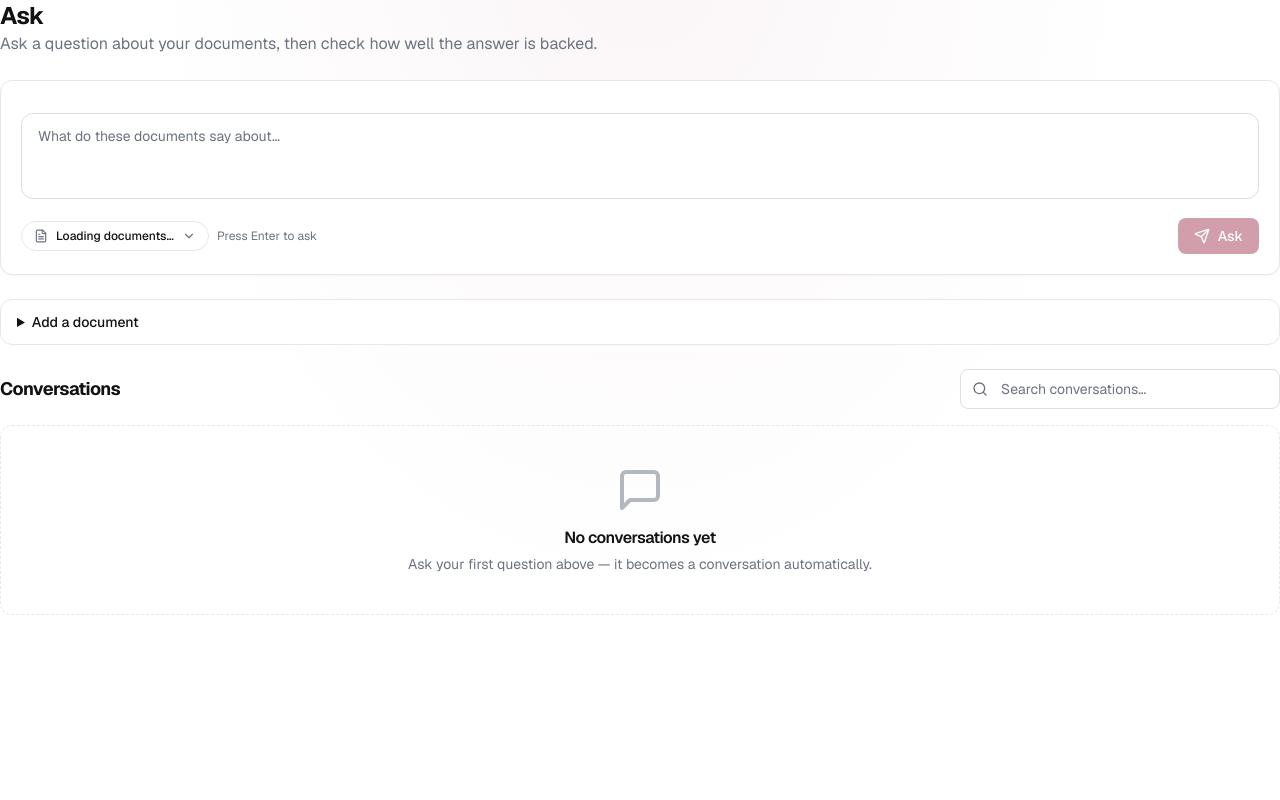
Test: WorkspacePage composer › waits for the documents query instead of claiming the library is empty
This screenshot has width=1280, height=800.
What coordinates should you click on to do the following:
click the button "Loading documents…"
I would click on:
 (115, 236)
Its box is [21,221,209,251].
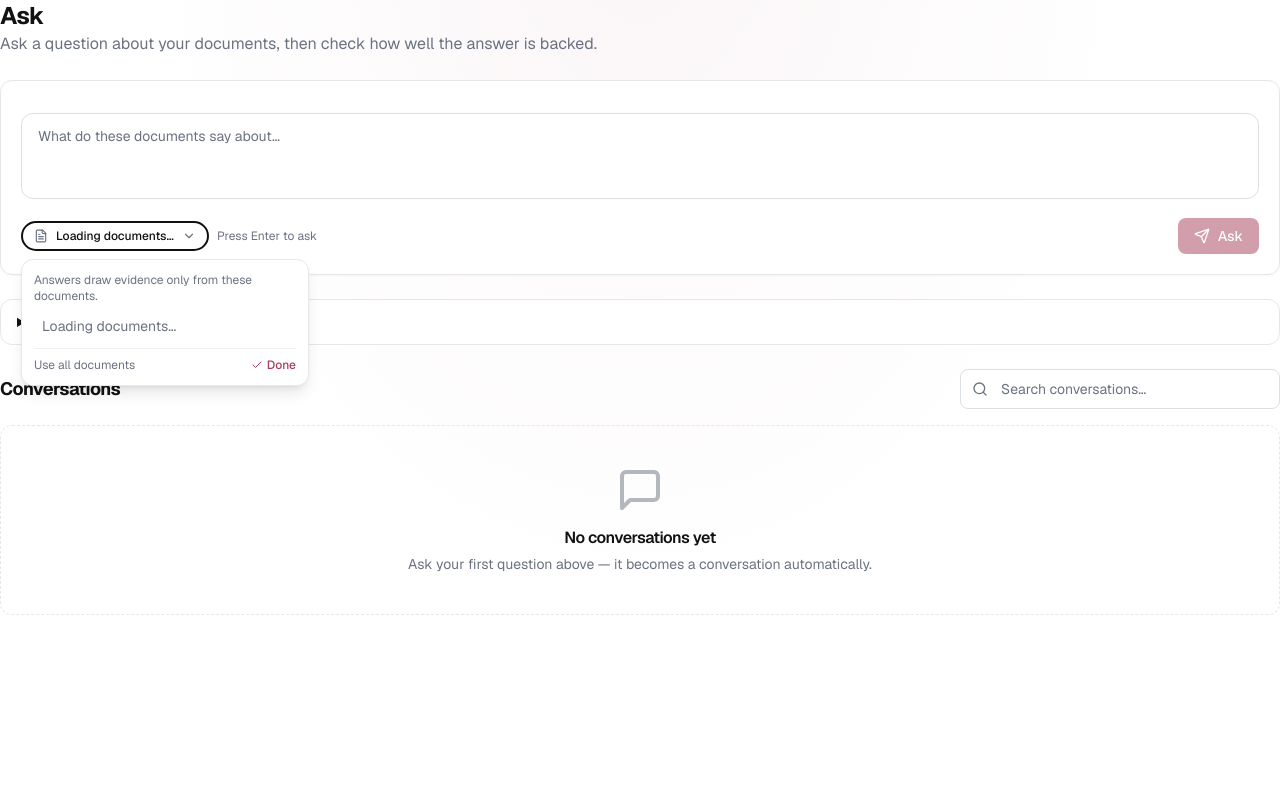
Result: the number of buttons "Loading documents…" is 2 at [21,221,209,251]; [42,317,176,335]
